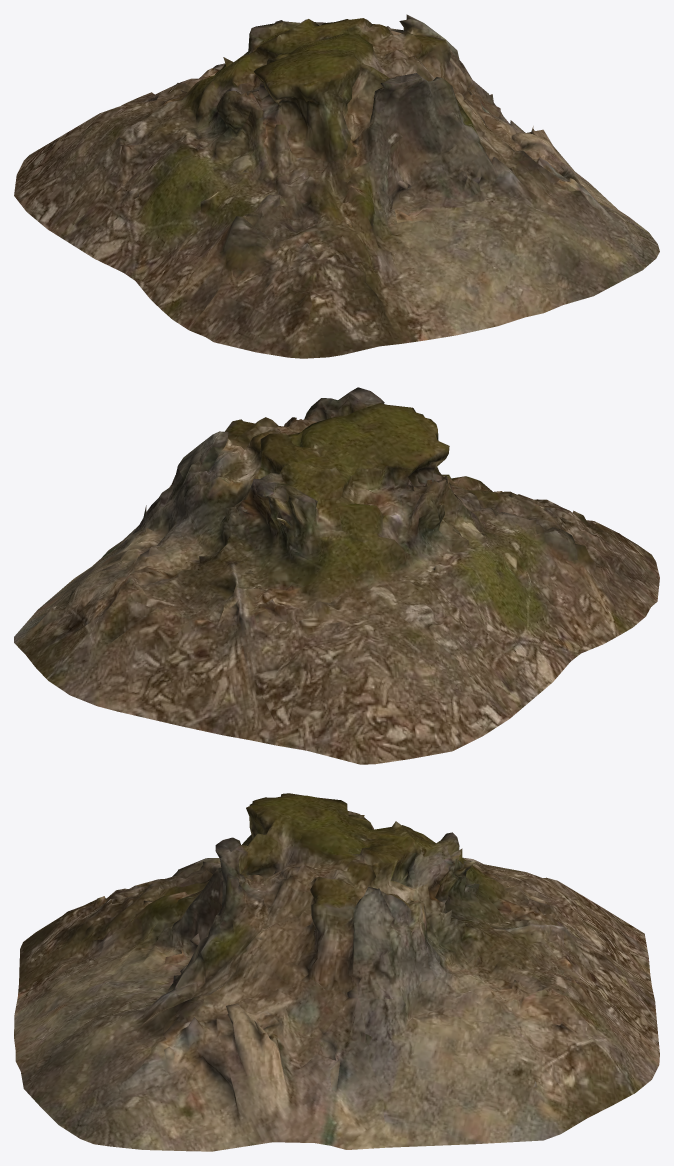
File: tree_stump_01.glb
3 views of the same model, one above another, from view 1: azimuth 30°, elevation 25°; view 2: azimuth 150°, elevation 25°; view 3: azimuth 270°, elevation 25° (orthographic). The views are drawn at different scales.
Visible parts, largest first — view 1: tree_stump_01; view 2: tree_stump_01; view 3: tree_stump_01.
Boxes of the visible parts, x1,y1,x2,y2 form: tree_stump_01: [14, 14, 659, 358]; tree_stump_01: [14, 387, 659, 764]; tree_stump_01: [14, 793, 659, 1151].
Bounding box in the file's own units: 1.43 × 0.571 × 1.59.
1 material, 1 textured.
